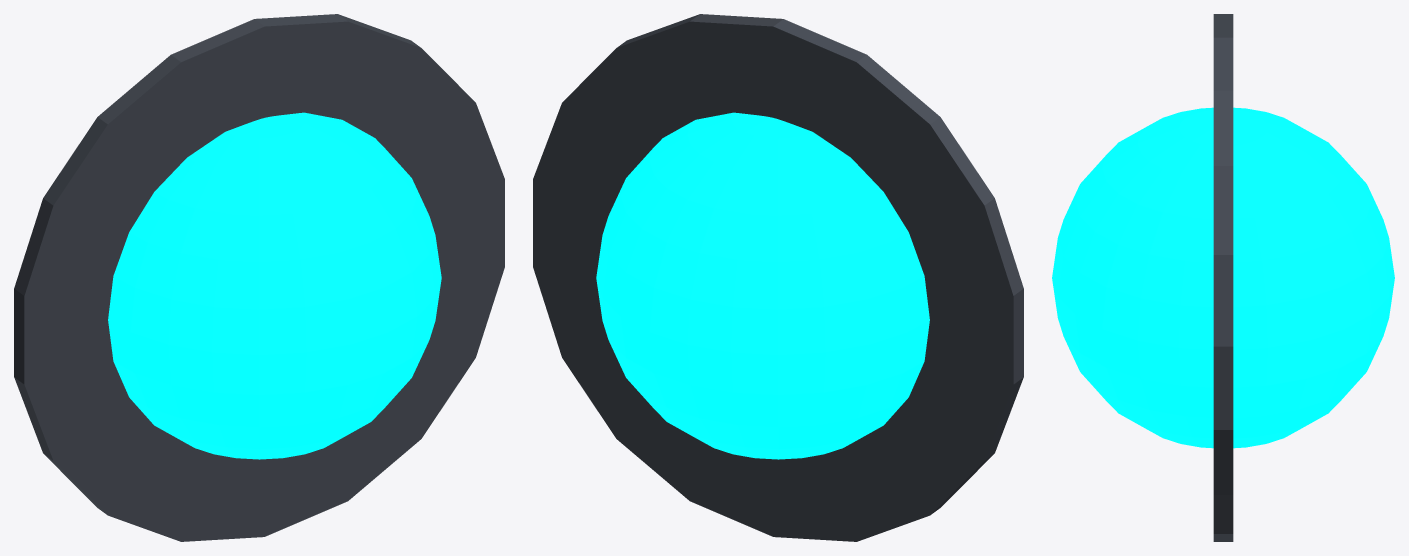
File: drone_basic.glb
The picture shows the model from 3 angles, left to right: view 1: azimuth 30°, elevation 25°; view 2: azimuth 150°, elevation 25°; view 3: azimuth 270°, elevation 25°; orthographic projection. The views are drawn at different scales.
Parts seen in each view (by area): view 1: ring, core; view 2: ring, core; view 3: core, ring.
Part boxes in pixels (x1,y1,x2,y2): ring: [14, 14, 504, 541]; core: [108, 112, 441, 459]; ring: [533, 14, 1023, 541]; core: [596, 112, 929, 459]; core: [1052, 107, 1394, 448]; ring: [1213, 14, 1233, 541].
Bounding box in the file's own units: 0.6697 × 0.68 × 0.44.
